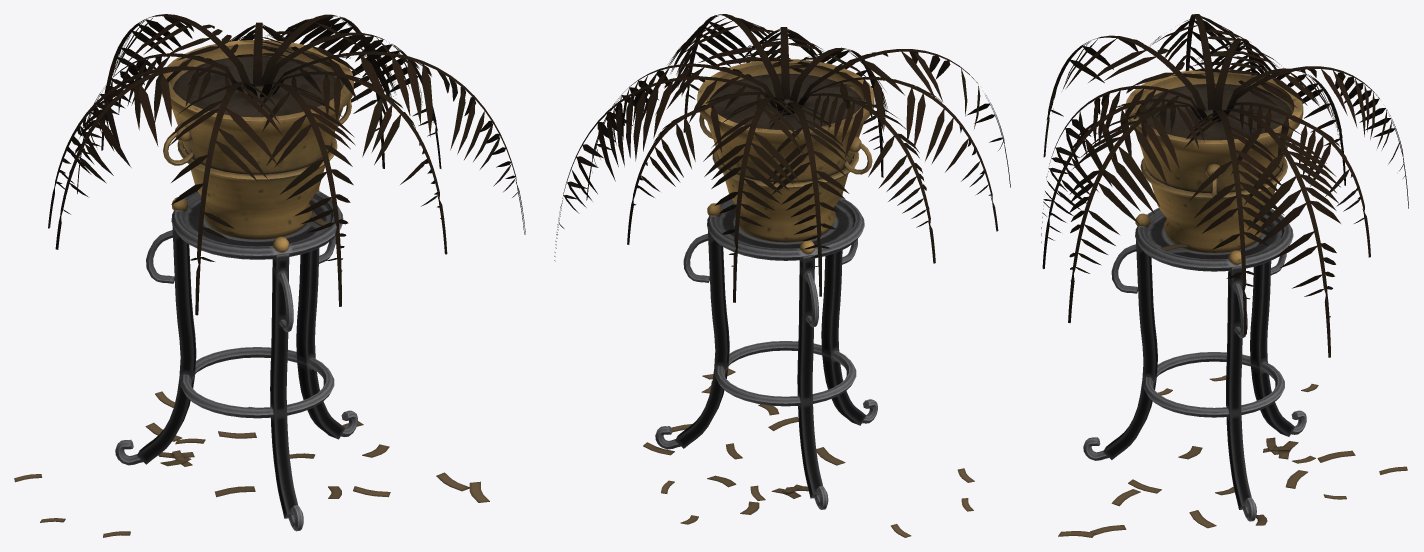
The model's file is DormPlantDead.fbx.
The picture shows the model from 3 angles, left to right: view 1: azimuth 30°, elevation 25°; view 2: azimuth 150°, elevation 25°; view 3: azimuth 270°, elevation 25°; orthographic projection. The views are drawn at different scales.
Parts seen in each view (by area): view 1: DormPlantDead; view 2: DormPlantDead; view 3: DormPlantDead.
Boxes of the visible parts, left/top/right/bottom form: DormPlantDead: left=14, top=14, right=525, bottom=537; DormPlantDead: left=554, top=14, right=1010, bottom=537; DormPlantDead: left=1041, top=14, right=1408, bottom=537.
Size of the model in its own units: 254 by 253 by 212.
